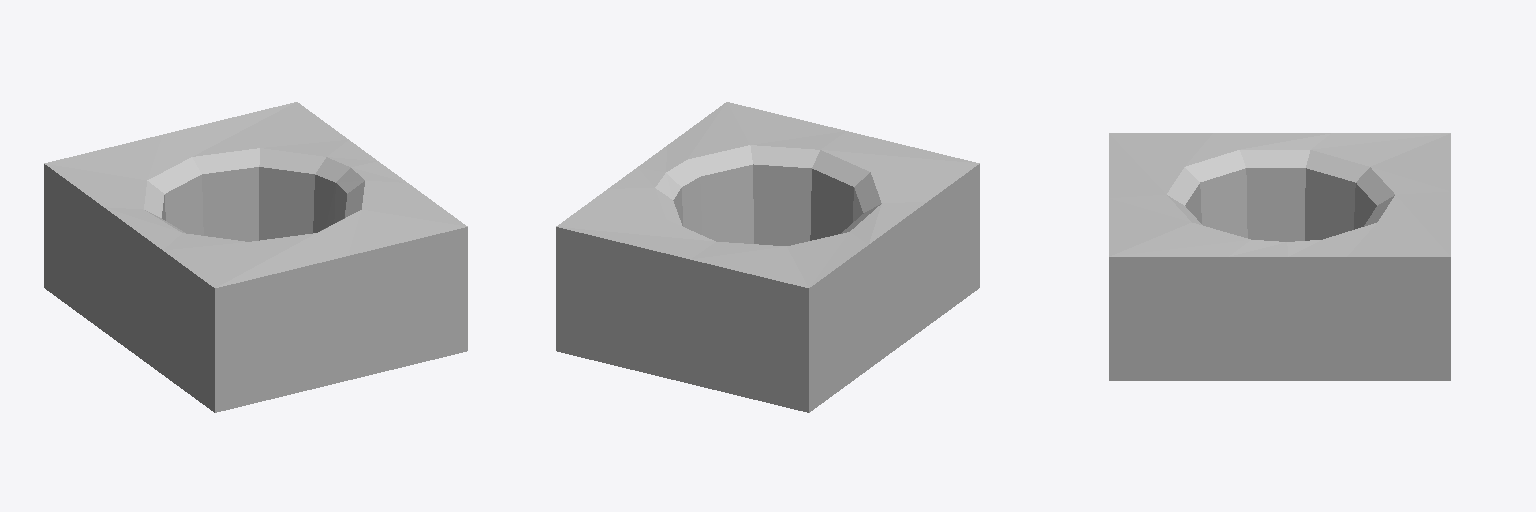
File: pit.obj
The picture shows the model from 3 angles: view 1: azimuth 30°, elevation 25°; view 2: azimuth 150°, elevation 25°; view 3: azimuth 270°, elevation 25°; orthographic projection.
Visible parts, largest first — view 1: visual.003; view 2: visual.003; view 3: visual.003.
Boxes of the visible parts, box(x1,y1,x2,y2) form: visual.003: box(44, 102, 467, 412); visual.003: box(556, 102, 979, 412); visual.003: box(1109, 133, 1450, 380).
Size of the model in its own units: 12.43 by 5.98 by 14.54.